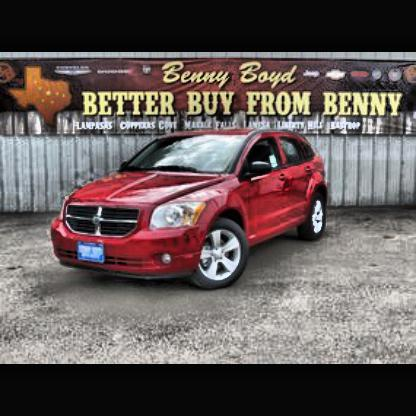Dodge Caliber Wagon 2012: (49, 128, 332, 294)
